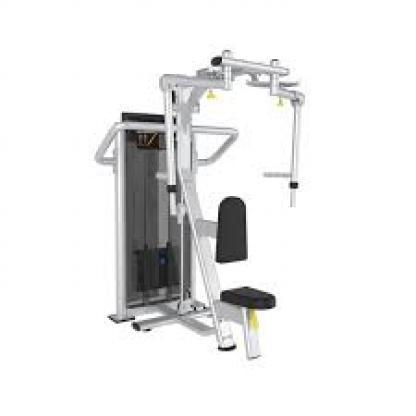chest fly machine: (84, 42, 314, 376)
